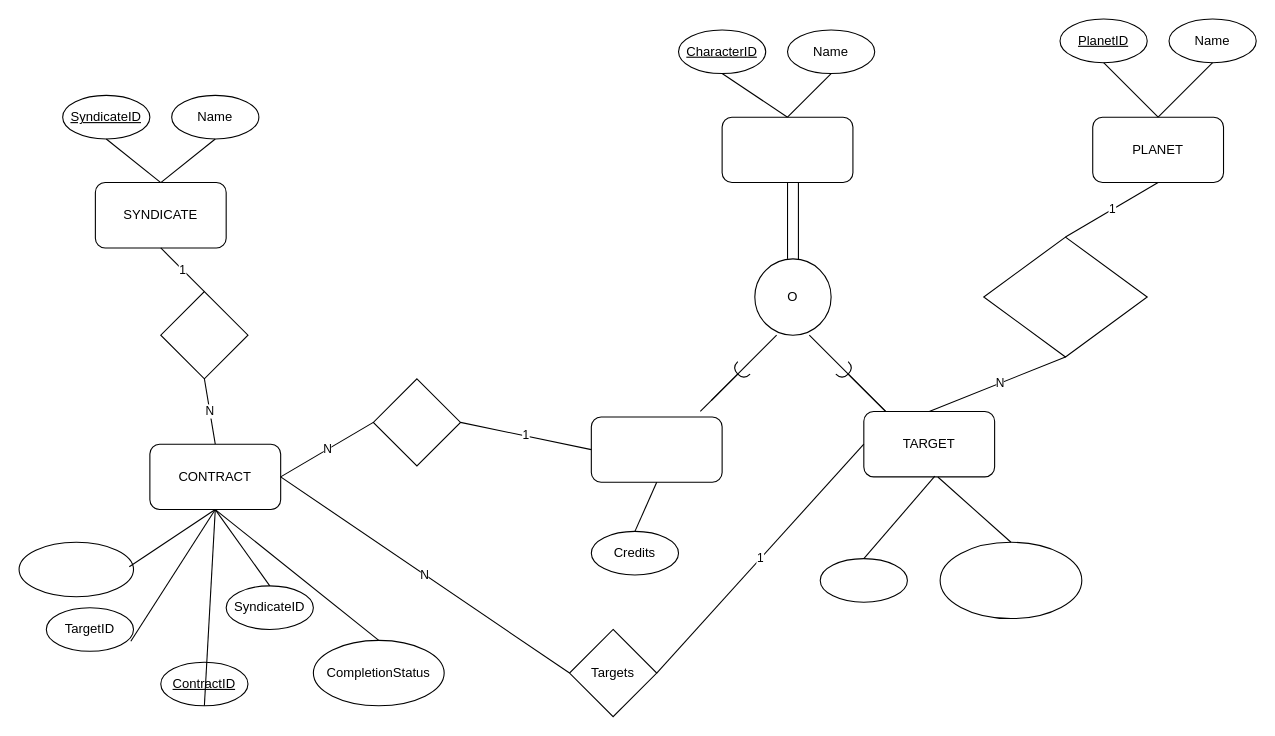
Some shapes in this 1275 by 736 pixel diagram are drawn without their labels. Here are the shapes that lost their labels. From the top down, the centre of each, then its label:
[787,149]: CHARACTER
[1065,296]: Was last seen on
[204,334]: issued
[416,422]: accepts
[656,449]: BOUNTY_HUNTER
[76,569]: BountyHunterID
[863,580]: Value
[1010,580]: LastLocationPlanetID
